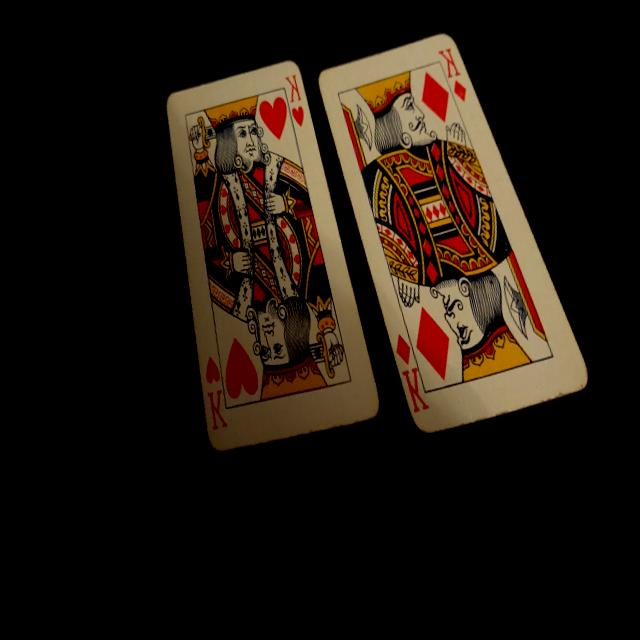Diamond: (408, 302, 458, 385), (415, 67, 454, 126), (392, 332, 413, 366), (452, 78, 468, 103)
Heart: (216, 334, 260, 399), (257, 96, 293, 142), (202, 355, 221, 383), (290, 104, 306, 128)
King: (402, 367, 428, 412), (205, 390, 229, 430), (438, 47, 460, 78), (284, 74, 301, 102)
